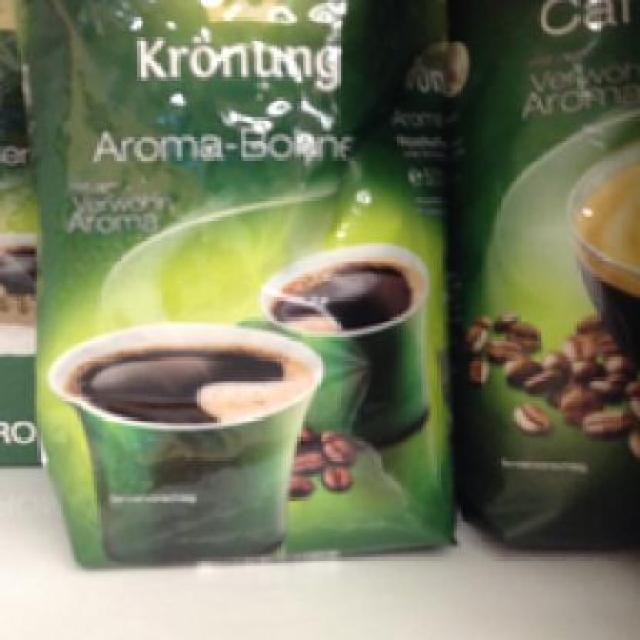Coffee: (11, 0, 452, 566), (448, 0, 632, 549)
